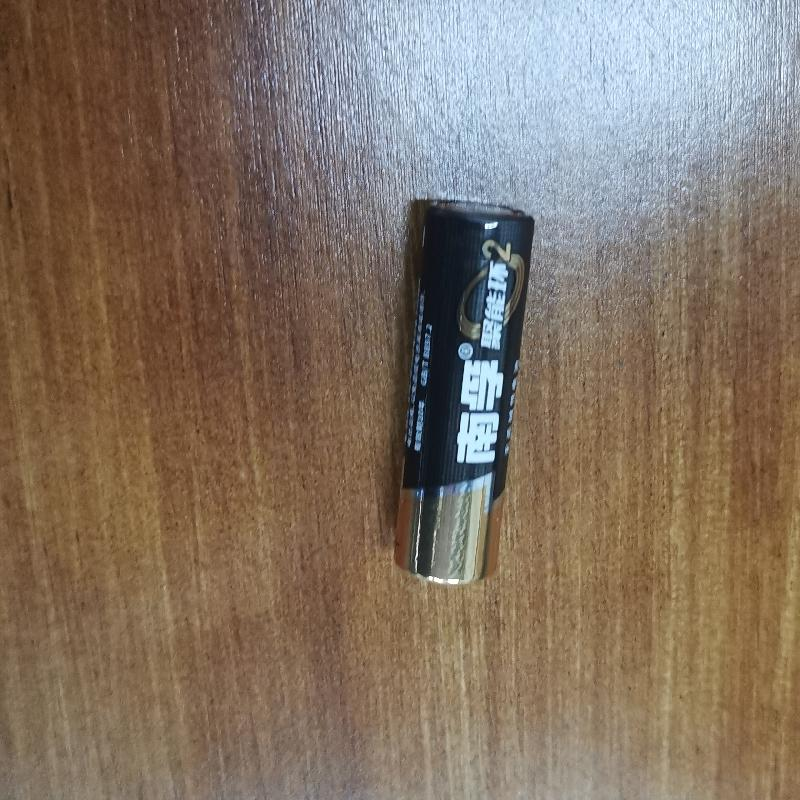battery: (386, 197, 535, 598)
